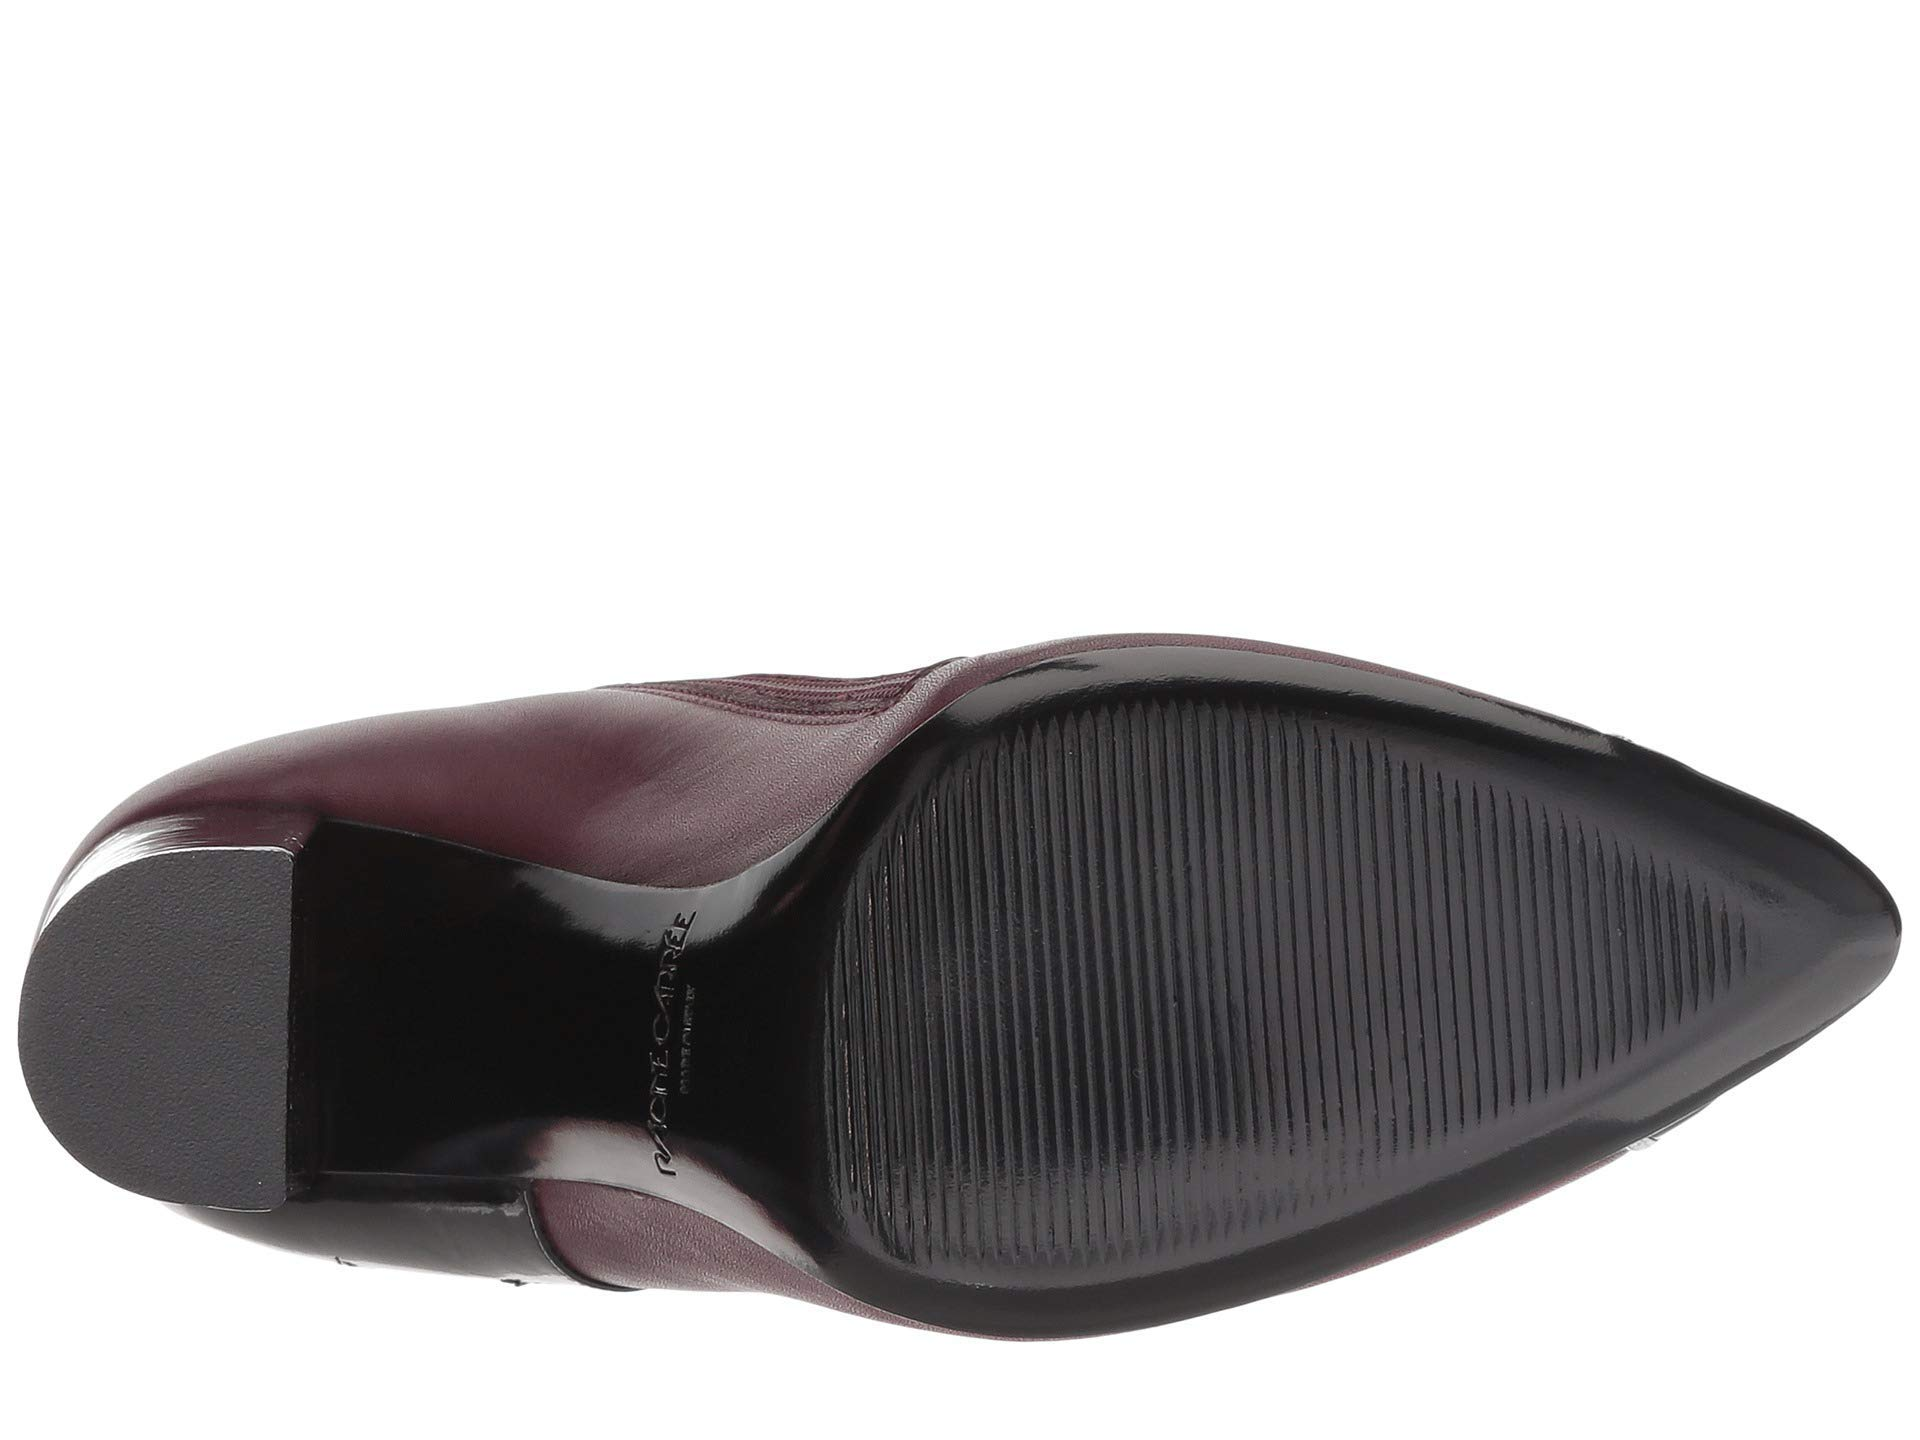line: (915, 726, 1344, 1227), (1386, 770, 1554, 1142), (1584, 858, 1723, 1042)
